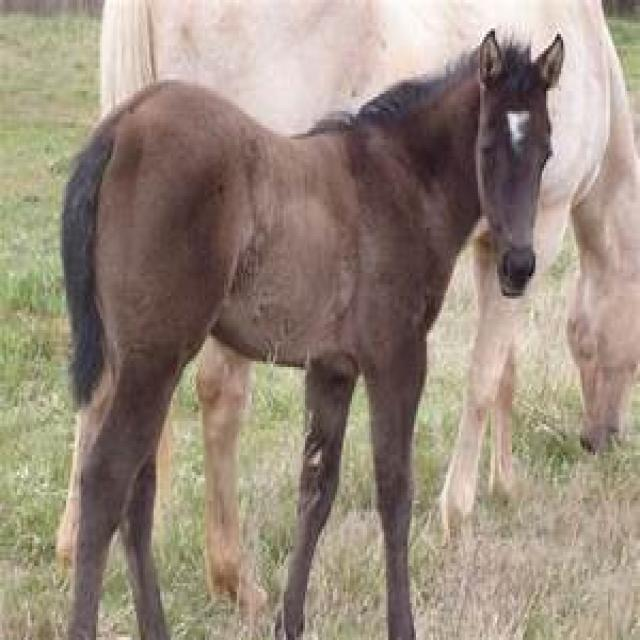animal: (56, 26, 566, 637)
